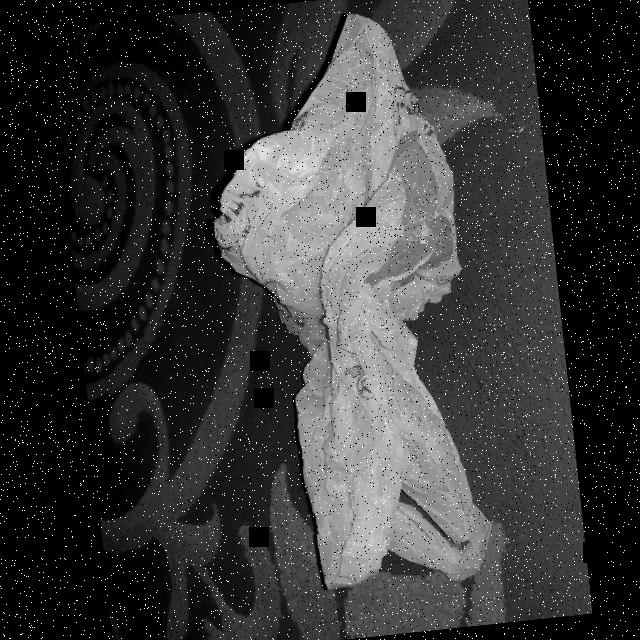plastic_bag: (184, 0, 531, 611)
